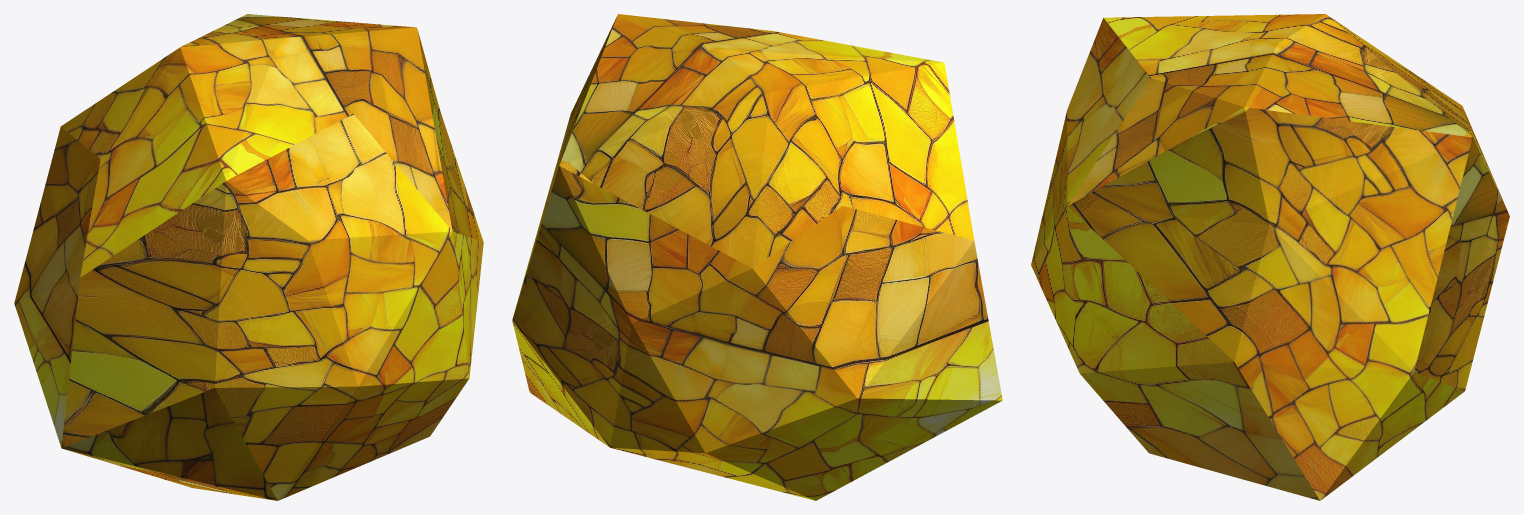
File: star3YellowCompressed.glb
3 renders of one model, left to right at view 1: azimuth 30°, elevation 25°; view 2: azimuth 150°, elevation 25°; view 3: azimuth 270°, elevation 25°, orthographic.
Visible parts, largest first — view 1: star3; view 2: star3; view 3: star3.
Part boxes in pixels (x1=…): star3: x1=14, y1=14, x2=483, y2=500; star3: x1=512, y1=14, x2=1002, y2=500; star3: x1=1031, y1=14, x2=1509, y2=500.
Bounding box in the file's own units: 1.07 × 1 × 1.02.
1 material, 1 textured.
